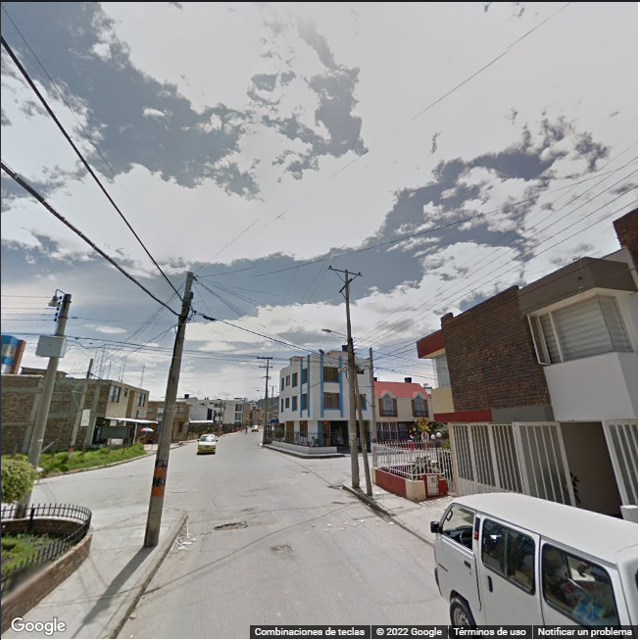D40: (264, 541, 303, 555), (212, 520, 249, 529)
